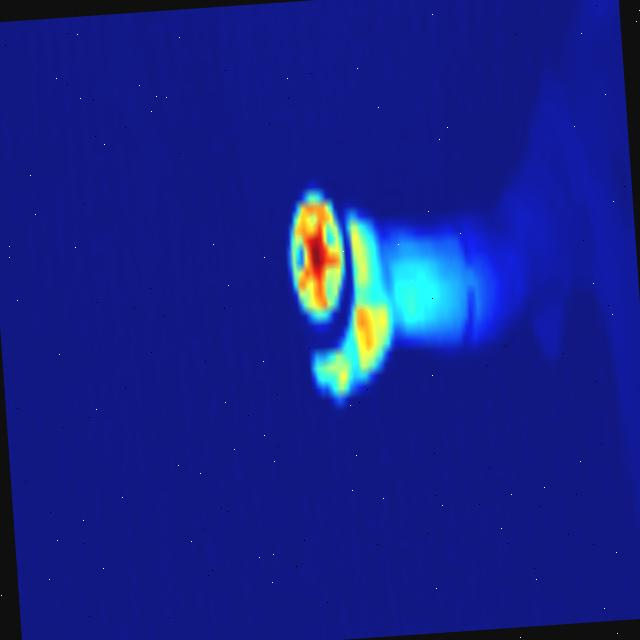circle: (272, 169, 364, 349)
